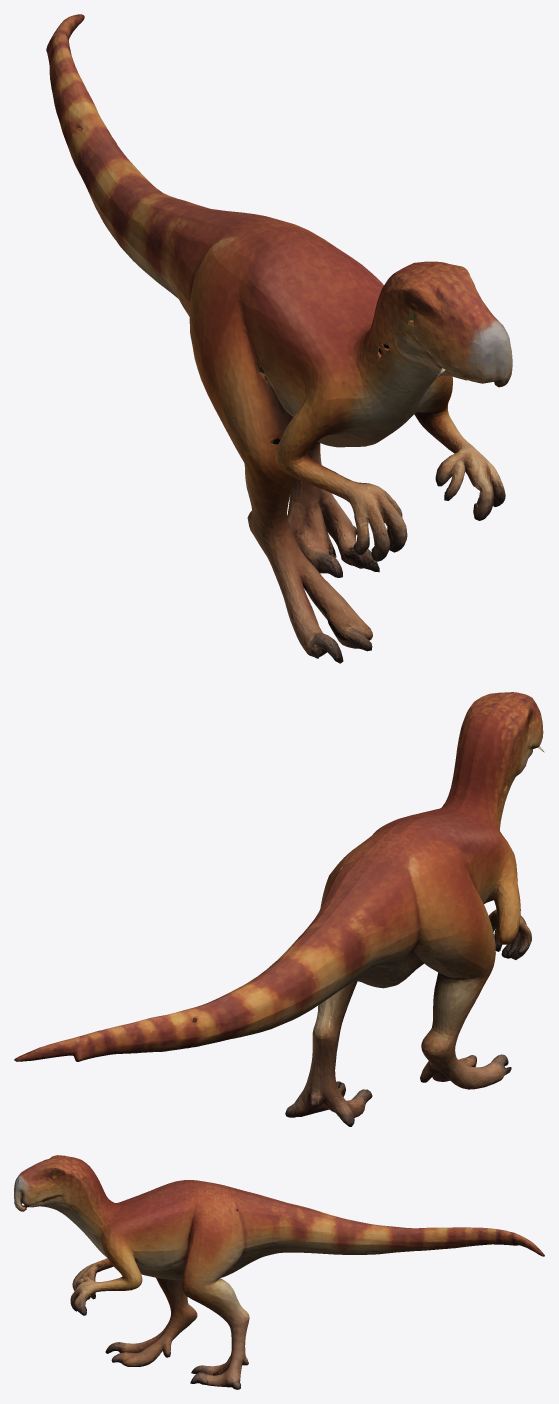
3 views of the same model, one above another, from view 1: azimuth 30°, elevation 25°; view 2: azimuth 150°, elevation 25°; view 3: azimuth 270°, elevation 25° (orthographic). The views are drawn at different scales.
Visible parts, largest first — view 1: world; view 2: world; view 3: world.
Boxes of the visible parts, <box> form: world: <box>46,14,512,663</box>; world: <box>14,692,543,1126</box>; world: <box>14,1155,544,1389</box>.
Bounding box in the file's own units: 0.2513 × 0.4355 × 1.
Materials: 2 (1 with a texture image).
